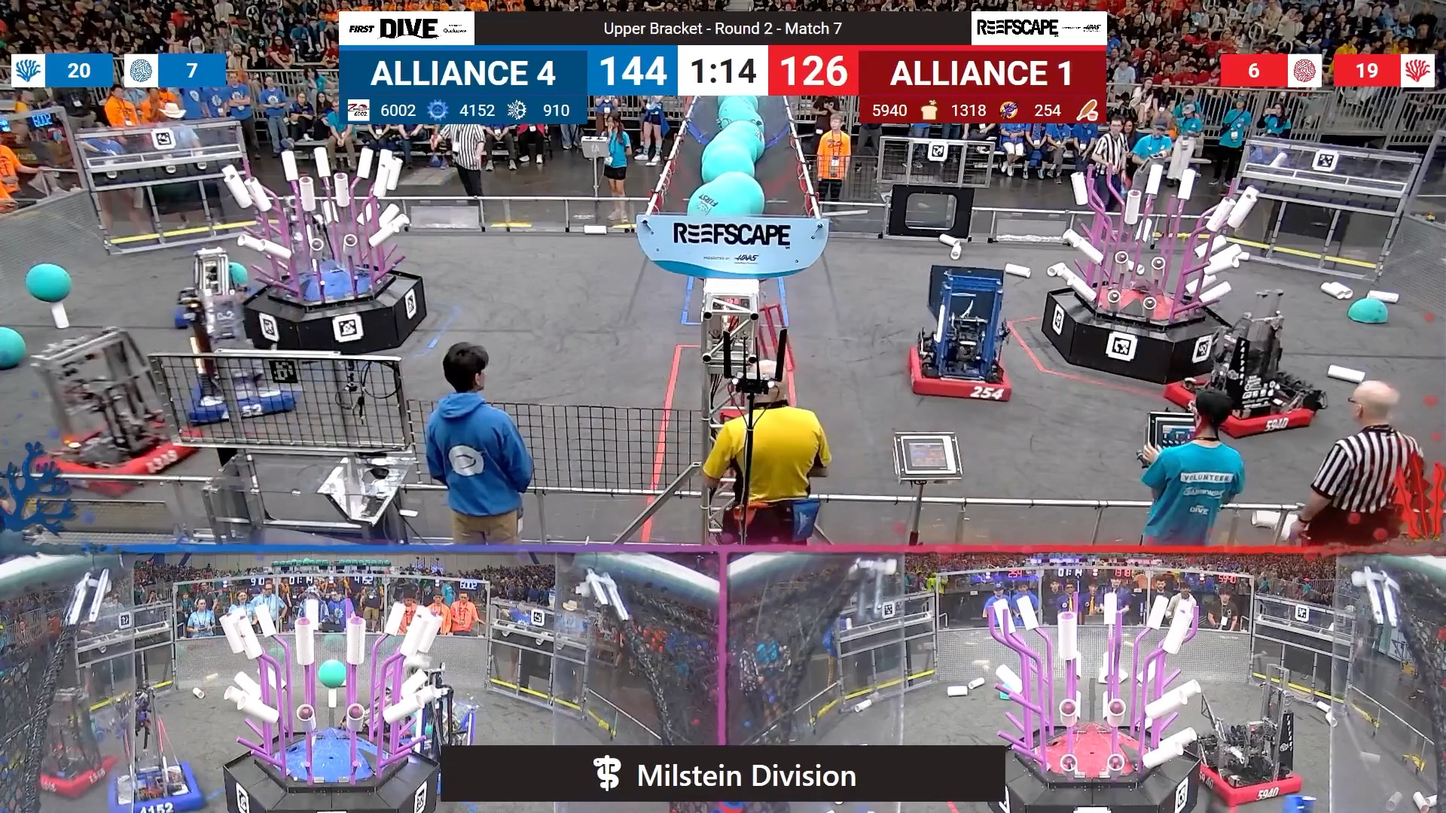bumpers: (1168, 369, 1330, 444), (47, 423, 205, 490), (188, 356, 313, 424), (901, 340, 1022, 409), (1181, 754, 1307, 812), (107, 759, 210, 813), (33, 751, 116, 799)
